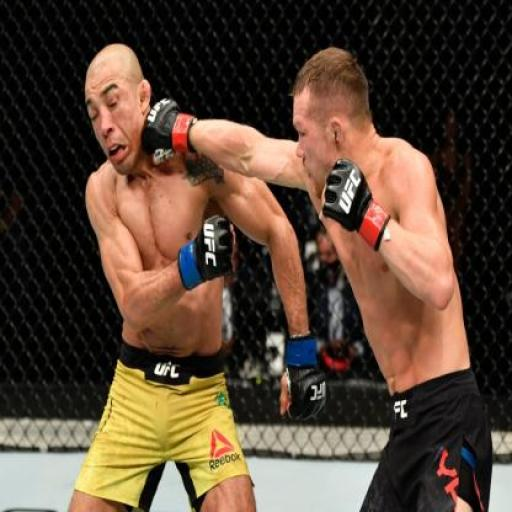Fighting: (65, 40, 494, 512)
